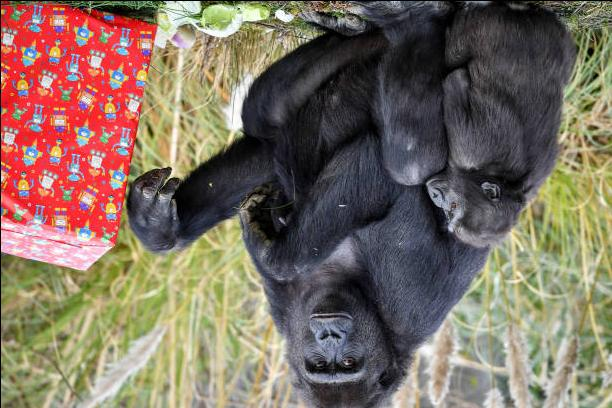gorille_Autres: (217, 3, 434, 408), (419, 3, 582, 244)
